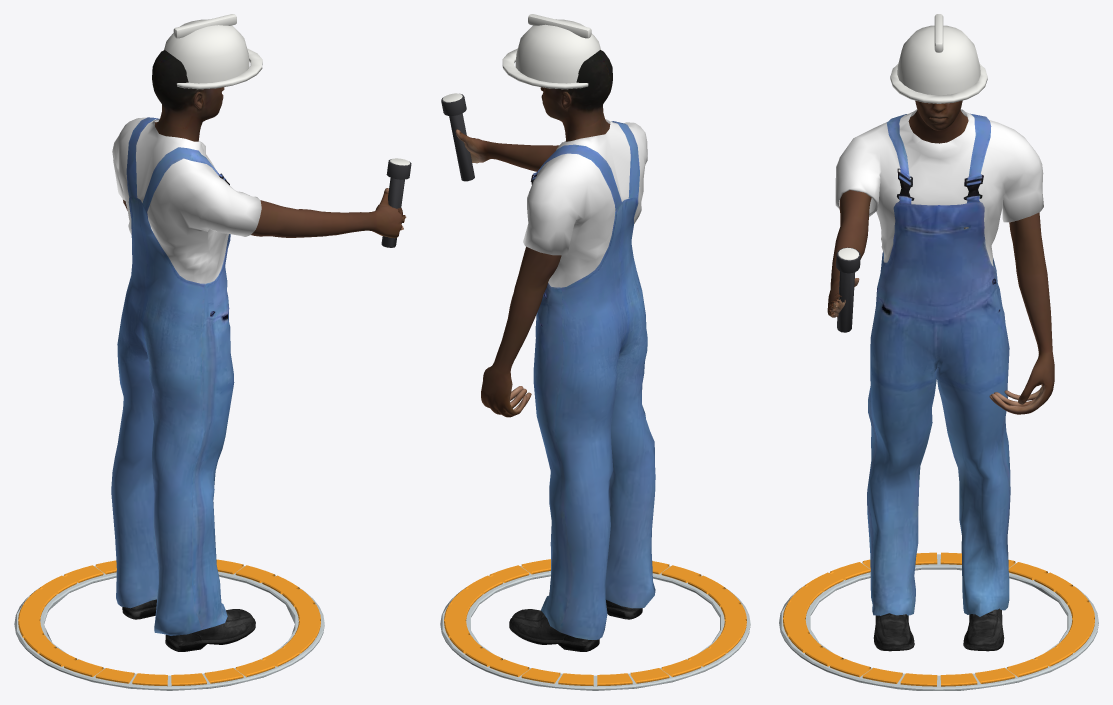
Rendered from MDO-TEC-006_lod1.glb.
The picture shows the model from 3 angles, left to right: view 1: azimuth 30°, elevation 25°; view 2: azimuth 150°, elevation 25°; view 3: azimuth 270°, elevation 25°; orthographic projection. The views are drawn at different scales.
Parts seen in each view (by area): view 1: MDO-TEC-006_pessoa_male_worksuit01, MDO-TEC-006_pessoa, MDO-TEC-006_capacete, MDO-TEC-006_anel_fundo, MDO-TEC-006_pessoa_shoes04, MDO-TEC-006_capacete_aba, MDO-TEC-006_capacete_friso; view 2: MDO-TEC-006_pessoa_male_worksuit01, MDO-TEC-006_pessoa, MDO-TEC-006_capacete, MDO-TEC-006_anel_fundo, MDO-TEC-006_pessoa_shoes04, MDO-TEC-006_ferD_lanterna, MDO-TEC-006_capacete_aba, MDO-TEC-006_capacete_friso; view 3: MDO-TEC-006_pessoa_male_worksuit01, MDO-TEC-006_pessoa, MDO-TEC-006_capacete, MDO-TEC-006_anel_fundo, MDO-TEC-006_pessoa_shoes04, MDO-TEC-006_capacete_aba, MDO-TEC-006_ferD_lanterna.
Part boxes in pixels (x1,y1,x2,y2): MDO-TEC-006_pessoa_male_worksuit01: (111,117,261,635); MDO-TEC-006_pessoa: (123,50,406,238); MDO-TEC-006_capacete: (164,19,249,83); MDO-TEC-006_anel_fundo: (14,566,324,690); MDO-TEC-006_pessoa_shoes04: (122,599,255,651); MDO-TEC-006_capacete_aba: (177,48,262,89); MDO-TEC-006_capacete_friso: (173,14,236,38); MDO-TEC-006_pessoa_male_worksuit01: (523,119,655,639); MDO-TEC-006_pessoa: (455,50,612,417); MDO-TEC-006_capacete: (515,19,600,83); MDO-TEC-006_anel_fundo: (440,566,750,690); MDO-TEC-006_pessoa_shoes04: (509,592,642,651); MDO-TEC-006_ferD_lanterna: (449,113,474,181); MDO-TEC-006_capacete_aba: (502,48,588,89); MDO-TEC-006_capacete_friso: (528,14,591,38); MDO-TEC-006_pessoa_male_worksuit01: (835,109,1043,616); MDO-TEC-006_pessoa: (827,100,1054,414); MDO-TEC-006_capacete: (897,25,980,95); MDO-TEC-006_anel_fundo: (779,554,1098,690); MDO-TEC-006_pessoa_shoes04: (873,608,1004,651); MDO-TEC-006_capacete_aba: (890,64,987,103); MDO-TEC-006_ferD_lanterna: (837,271,855,332).
Bounding box in the file's own units: 1.03 × 1.79 × 0.84.
10 materials, 5 textured.
